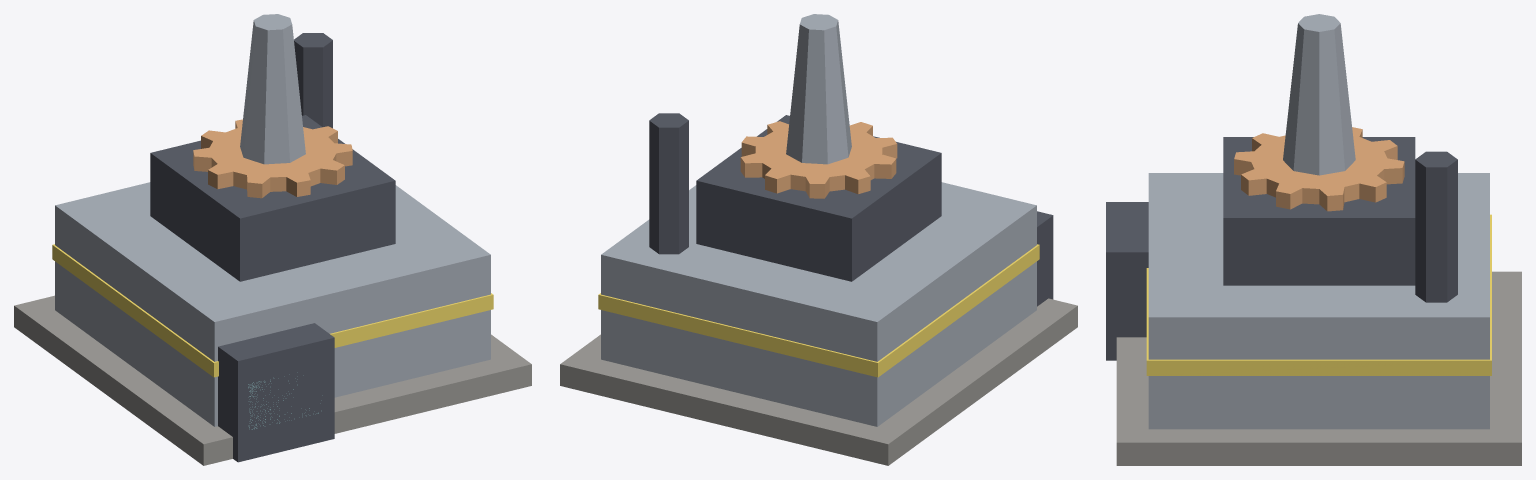
Rendered from broca_minerio.glb.
3 renders of one model, left to right at view 1: azimuth 30°, elevation 25°; view 2: azimuth 150°, elevation 25°; view 3: azimuth 270°, elevation 25°, orthographic. The views are drawn at different scales.
Parts seen in each view (by area): view 1: broca_minerio_corpo, broca_minerio_rotor; view 2: broca_minerio_corpo, broca_minerio_rotor; view 3: broca_minerio_corpo, broca_minerio_rotor.
Boxes of the visible parts, left/top/right/bottom form: broca_minerio_corpo: left=14, top=33, right=531, bottom=465; broca_minerio_rotor: left=193, top=14, right=352, bottom=198; broca_minerio_corpo: left=560, top=113, right=1077, bottom=465; broca_minerio_rotor: left=740, top=14, right=897, bottom=198; broca_minerio_corpo: left=1106, top=137, right=1521, bottom=465; broca_minerio_rotor: left=1234, top=14, right=1404, bottom=211.
Size of the model in its own units: 1.9 by 1.85 by 1.95.
